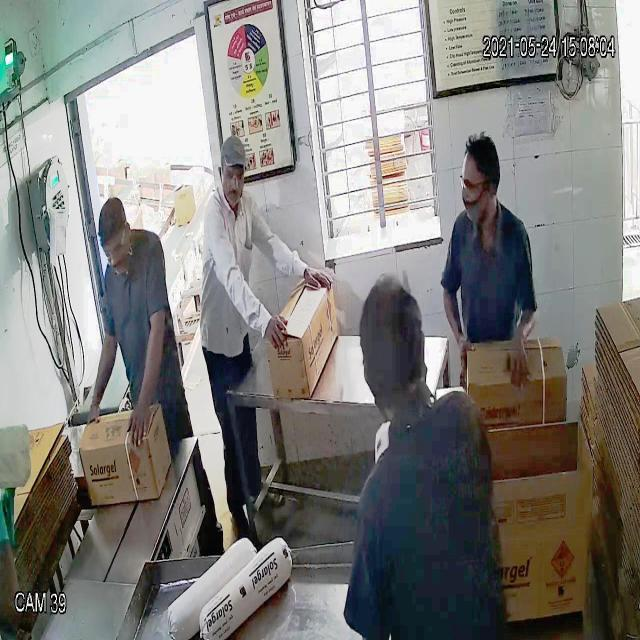glasses: (458, 170, 494, 196), (100, 237, 130, 264)
no-glass: (215, 161, 247, 188)
